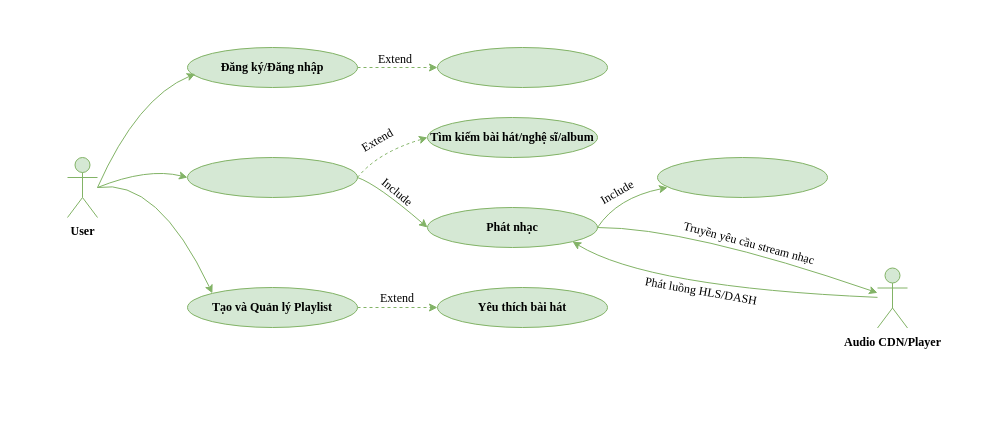
Some shapes in this 984 by 434 pixel diagram are drawn without their labels. Here are the shapes that lost their labels. From the top down, the centre of each, then its label:
the point at 522,67: Theo dõi nghệ sĩ/Album
the point at 272,177: Xem trang bài hát, lời nhạc
the point at 742,177: Xem lịch sử nghe và thống kê
